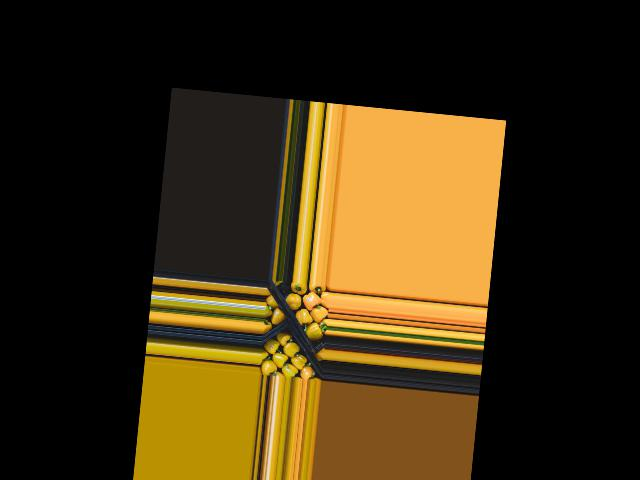bell_pepper: (258, 355, 276, 375)
